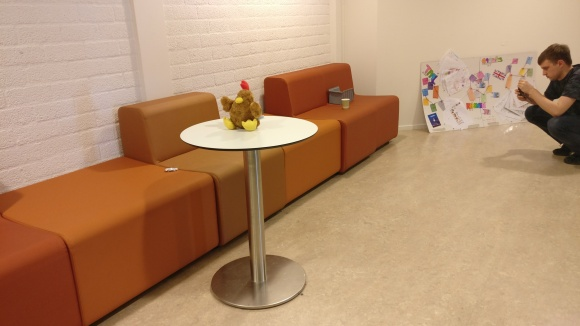chicken: (220, 80, 263, 132)
